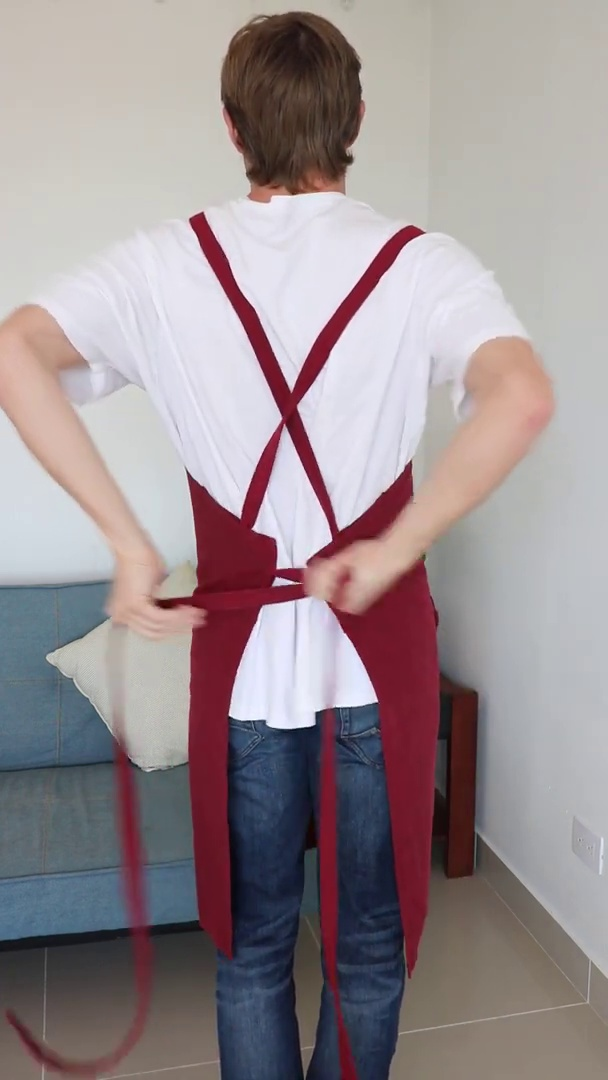Apron: (183, 213, 428, 687)
No_Glove: (91, 554, 203, 640), (311, 544, 413, 610)
No_Hairnet: (213, 7, 368, 180)
